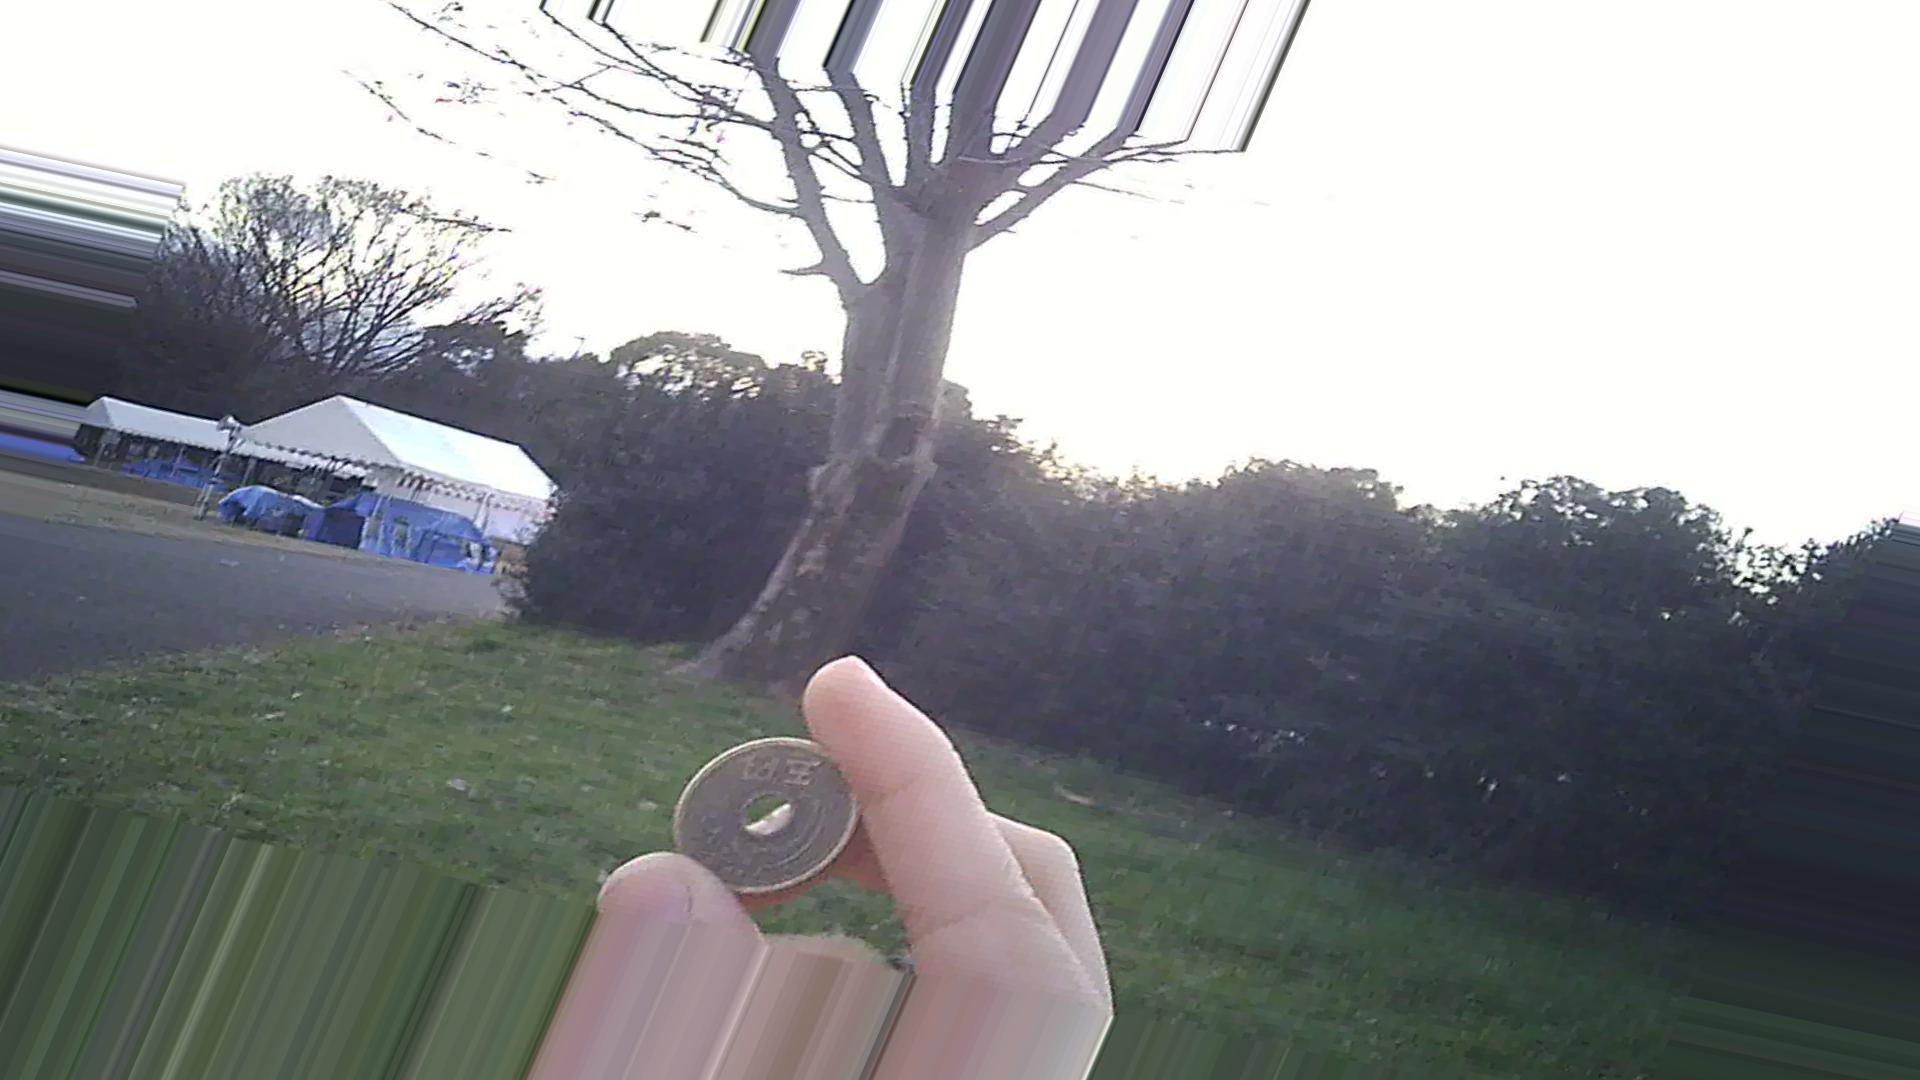5 Yen: (665, 725, 852, 884)
